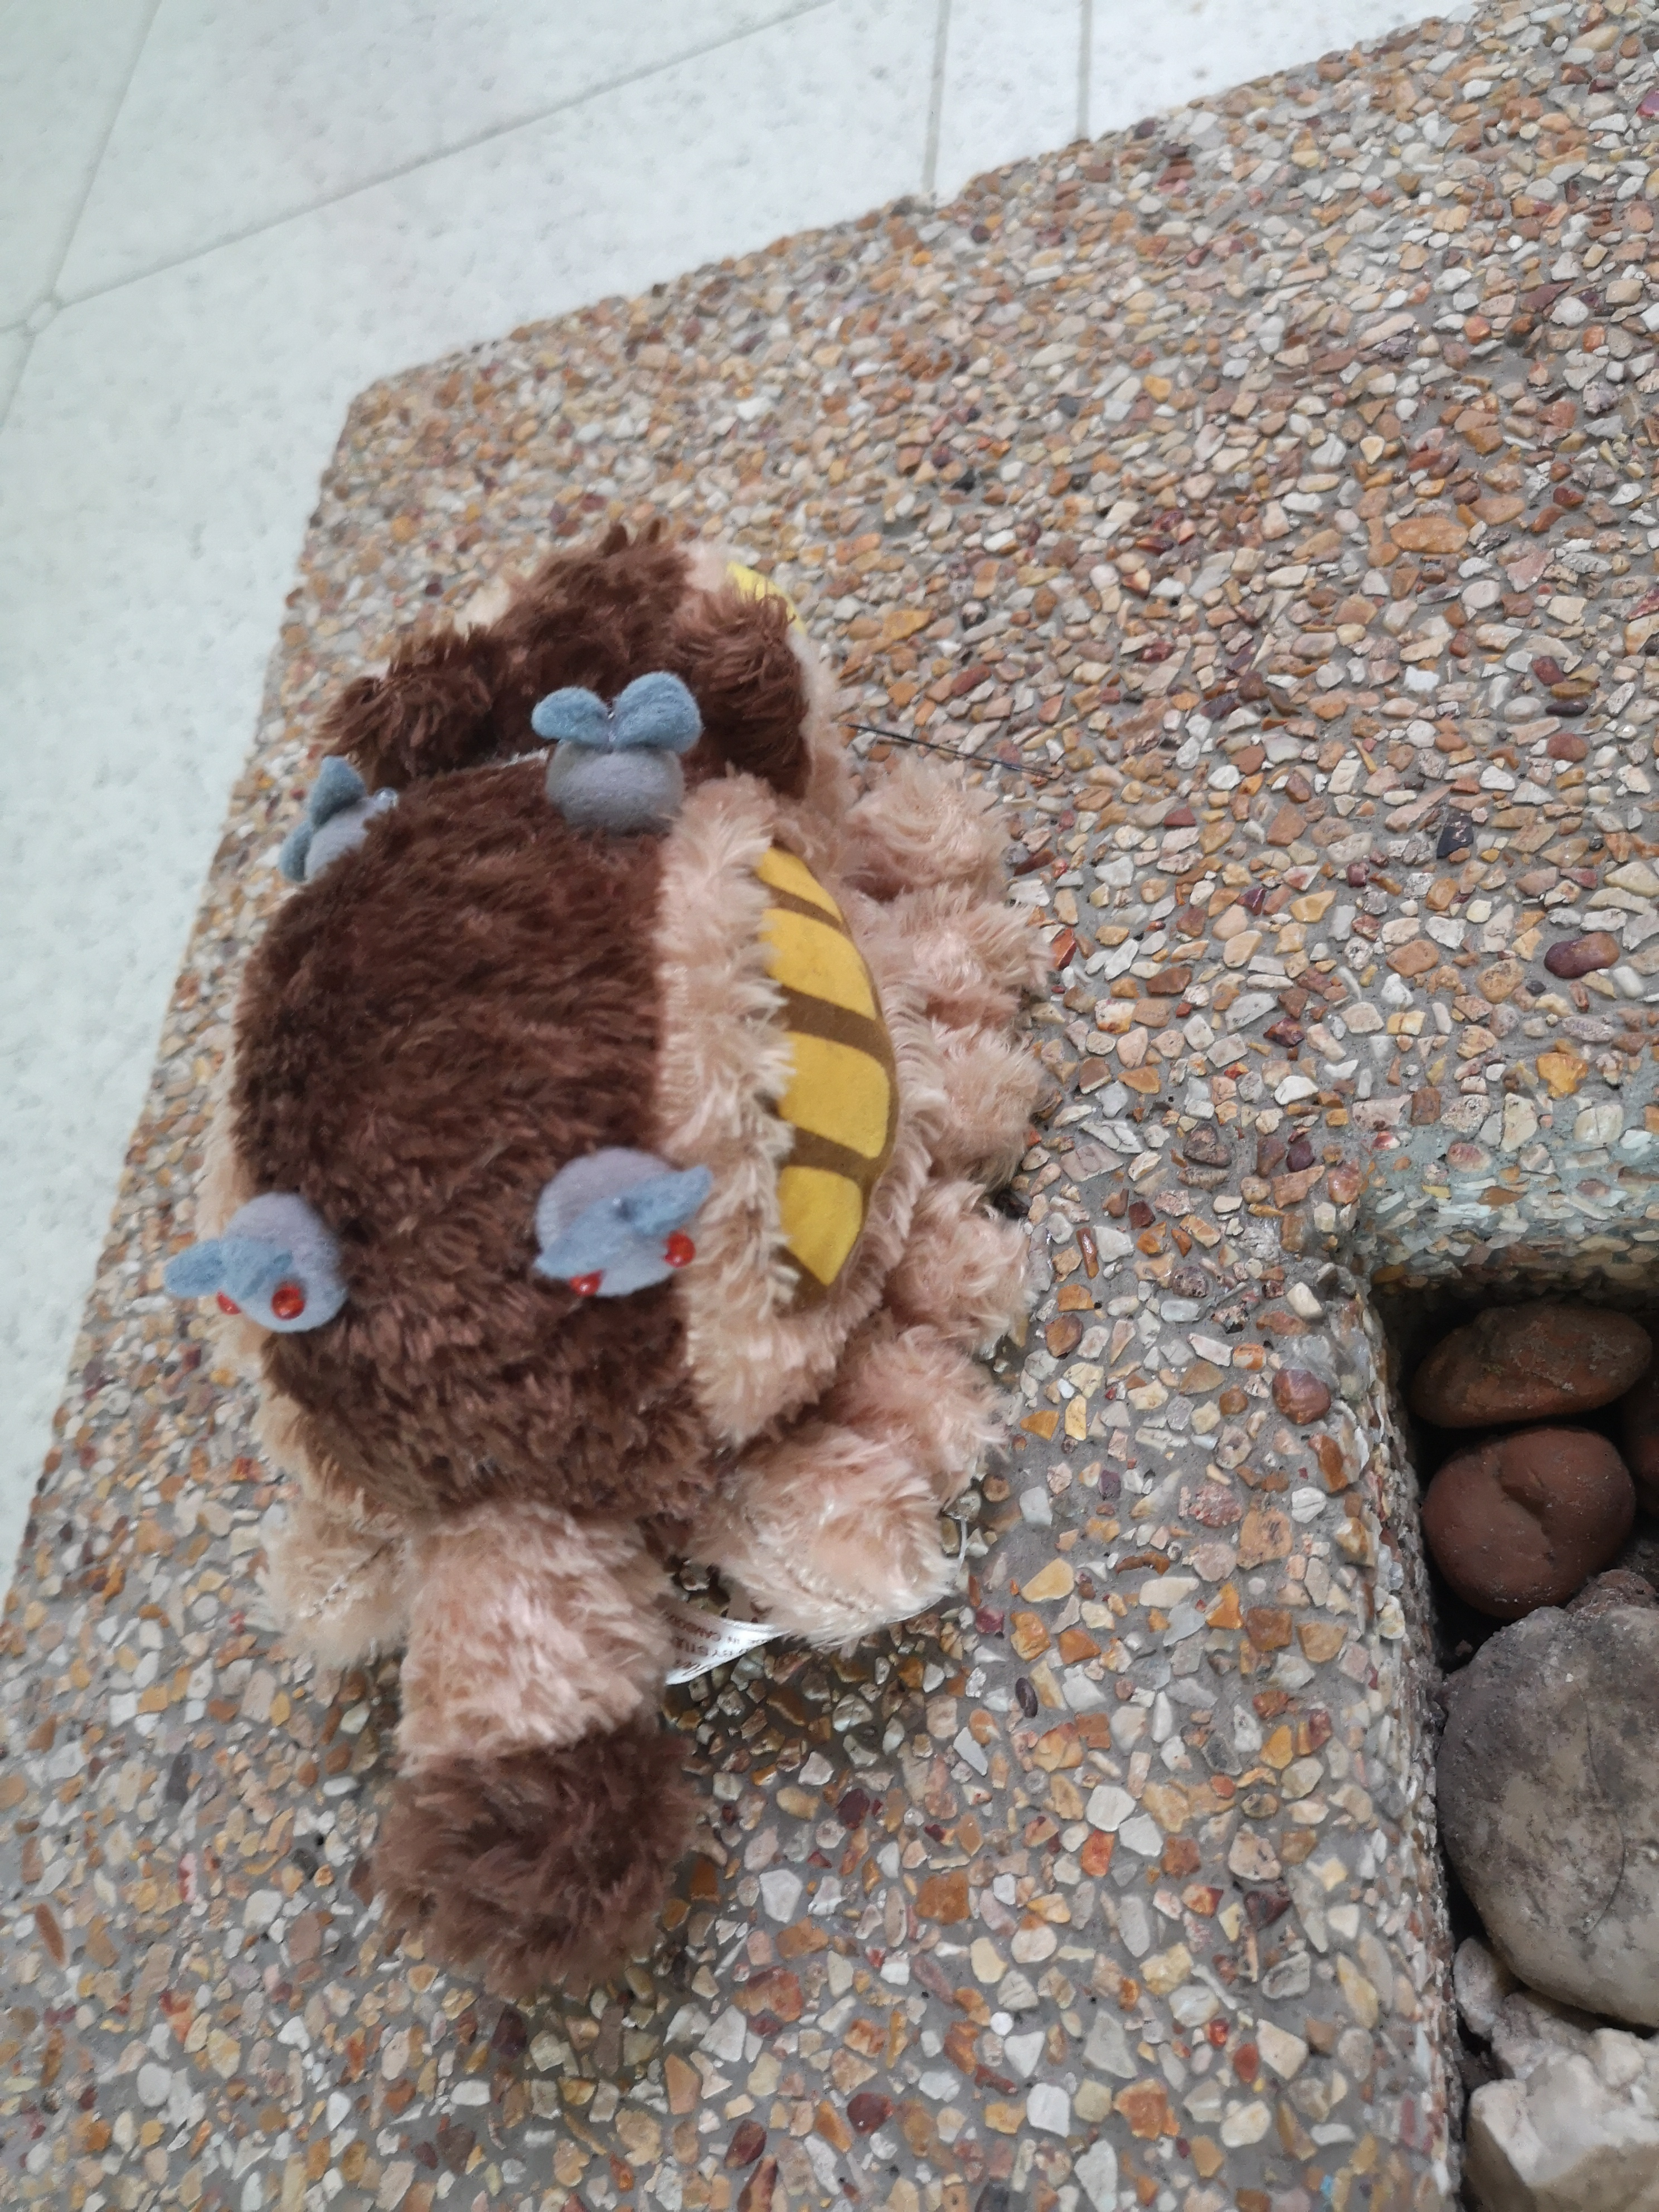nekobus: (152, 503, 1068, 1994)
